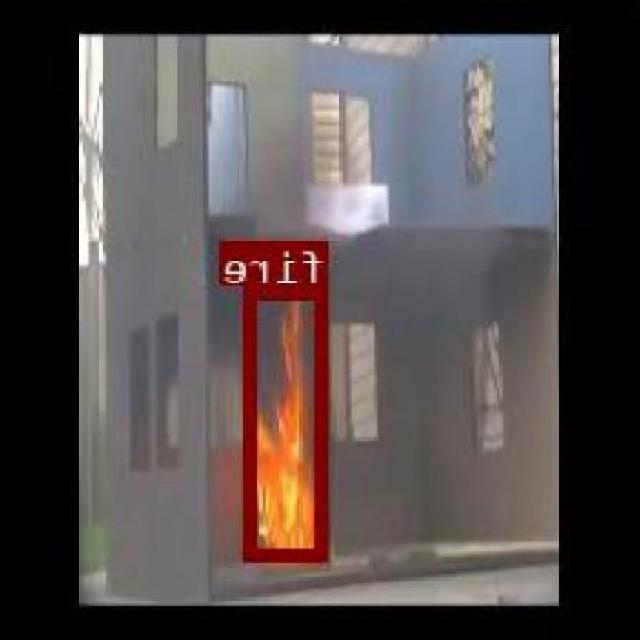Fire: (248, 284, 330, 560)
